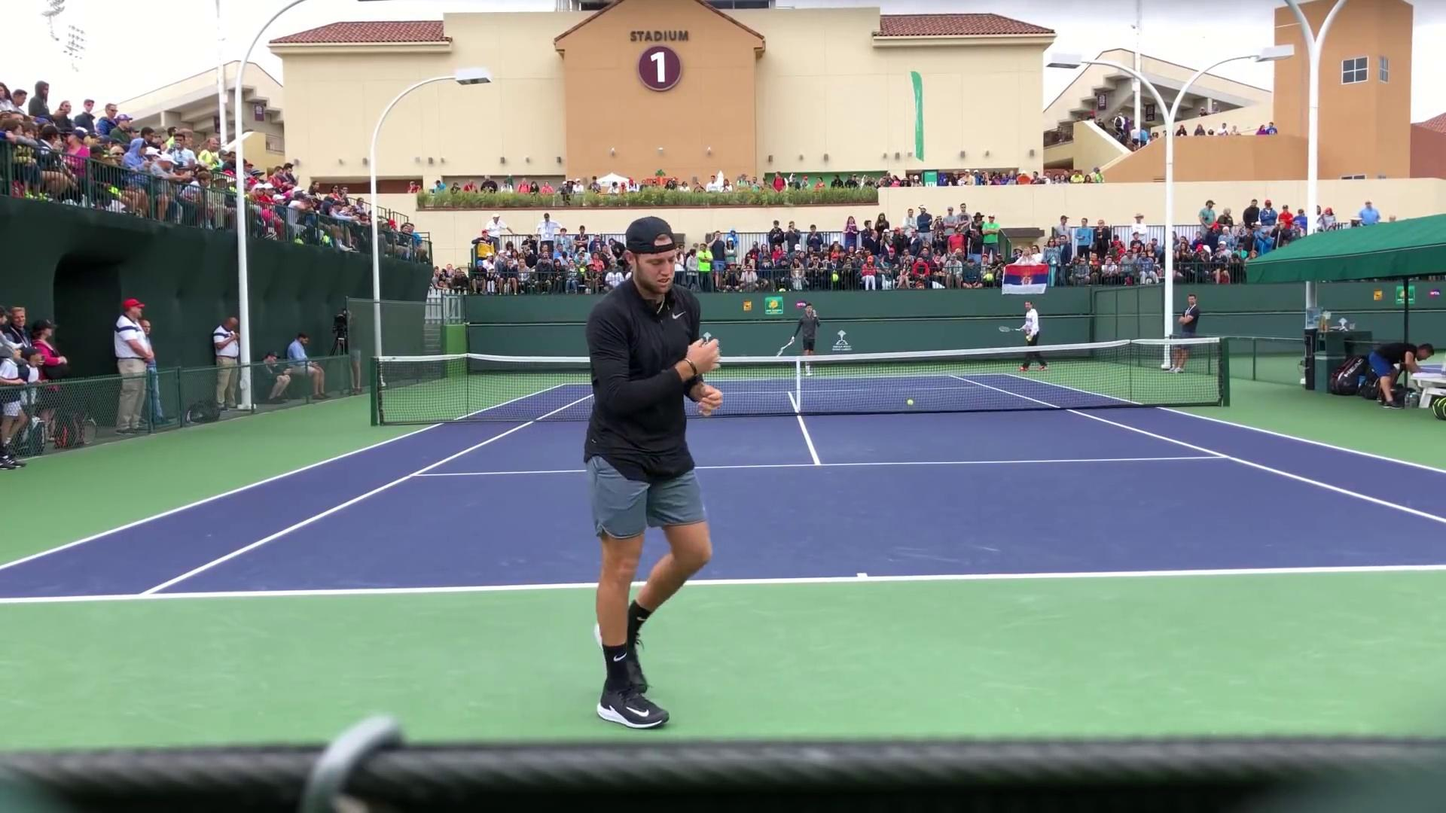ball: (907, 398, 912, 403)
